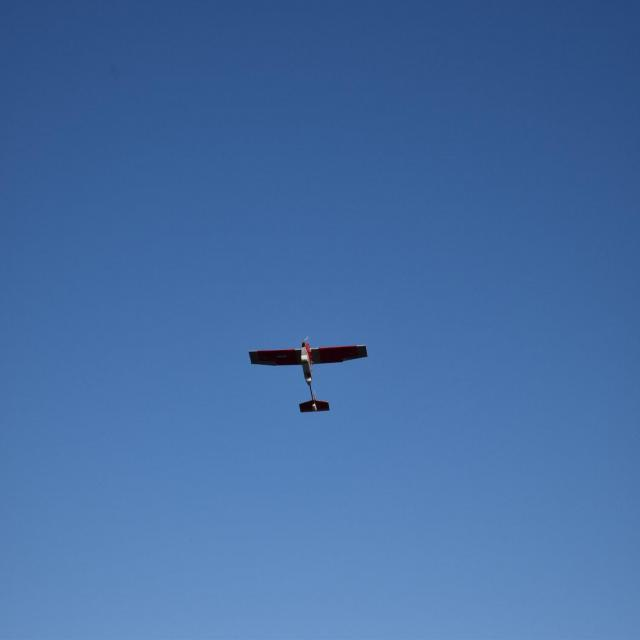iha: (277, 367, 340, 386)
